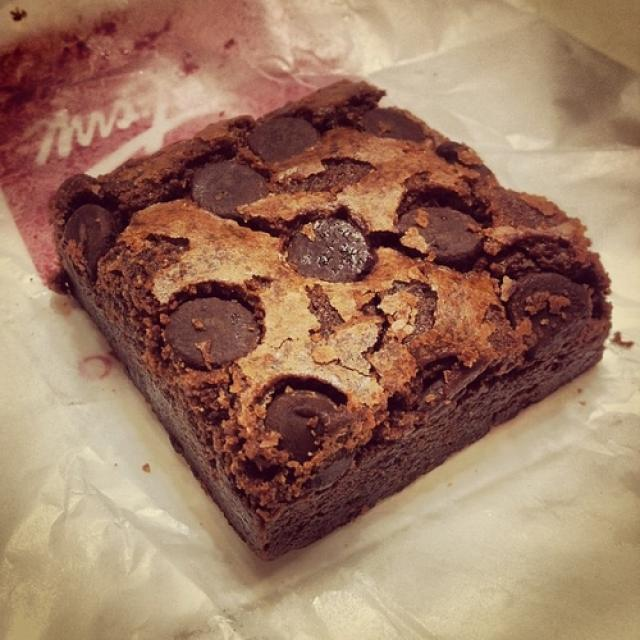蛋糕甜品: (22, 58, 613, 570)
